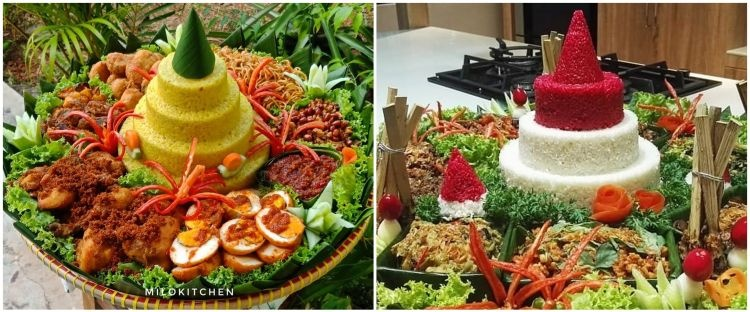tumpeng: (152, 7, 242, 112)
